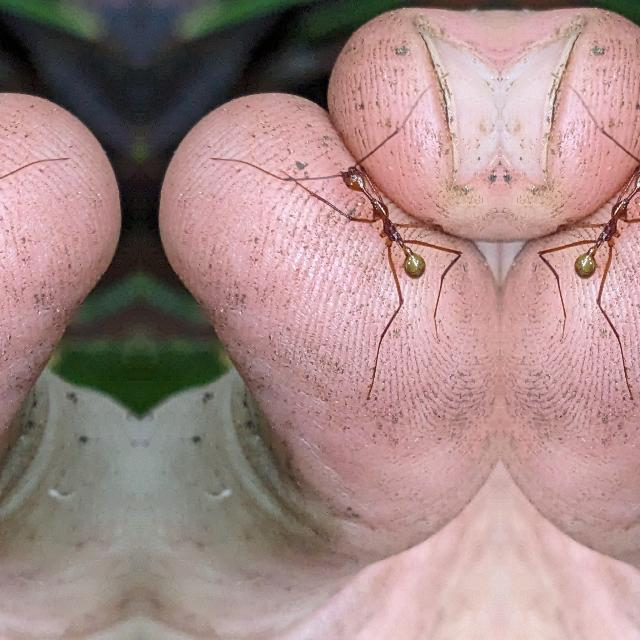Apheanogaster: (294, 134, 463, 330), (536, 133, 640, 330)
